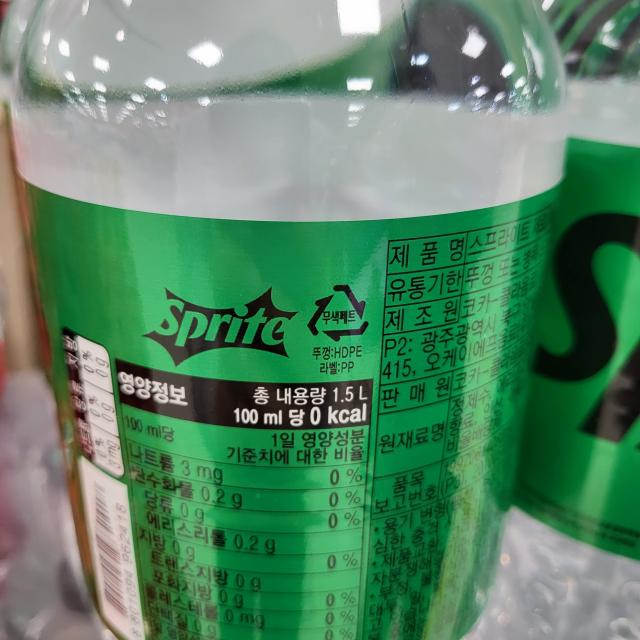ColorlessPET: (306, 280, 371, 344)
